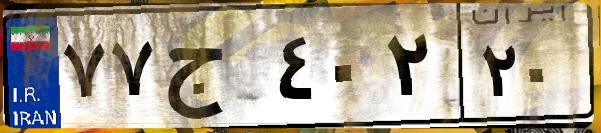0: (330, 28, 385, 110), (525, 38, 570, 115)
2: (385, 28, 445, 110), (475, 38, 525, 113)
4: (270, 28, 330, 110)
7: (57, 26, 110, 100), (110, 28, 158, 98)
ج: (158, 20, 270, 120)
